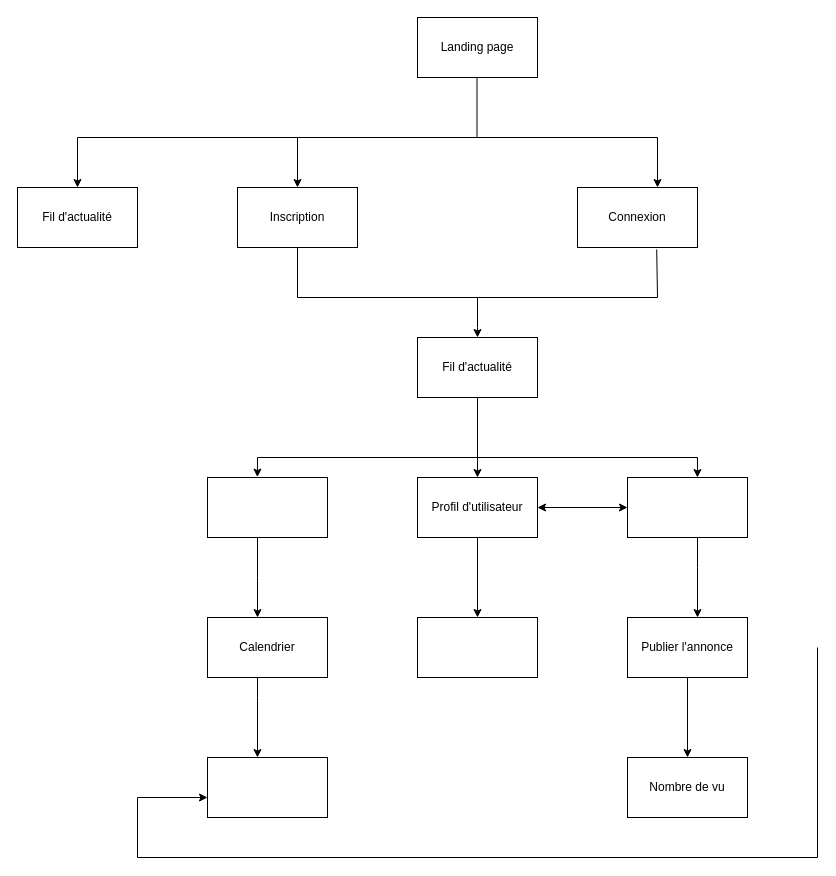
Image size: 836x876. Some labels were removed from this diagram. Here are the shapes that lost their labels. From the top down, the centre of each, then its label:
point 267,507: Réservation
point 687,507: Création d'annonce
point 477,647: Mes réservations
point 267,787: Contacter l'annonceur
